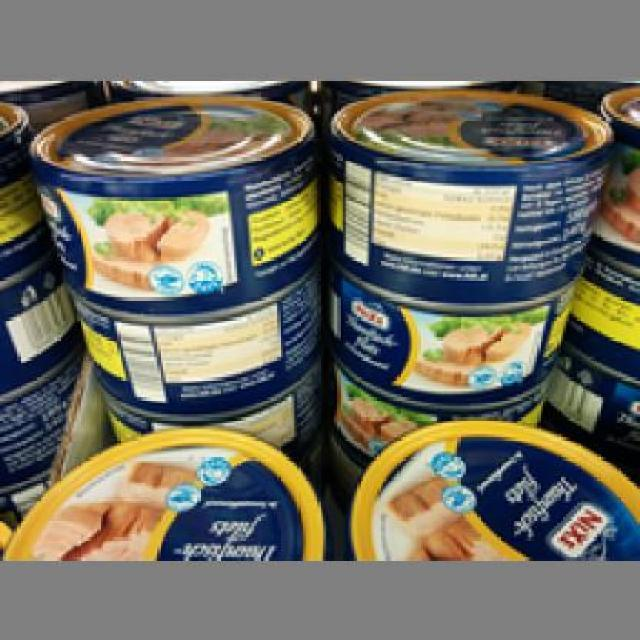Fish: (29, 95, 320, 312), (326, 86, 611, 303), (343, 414, 637, 557), (2, 428, 332, 554), (57, 286, 323, 420), (320, 274, 589, 400)
